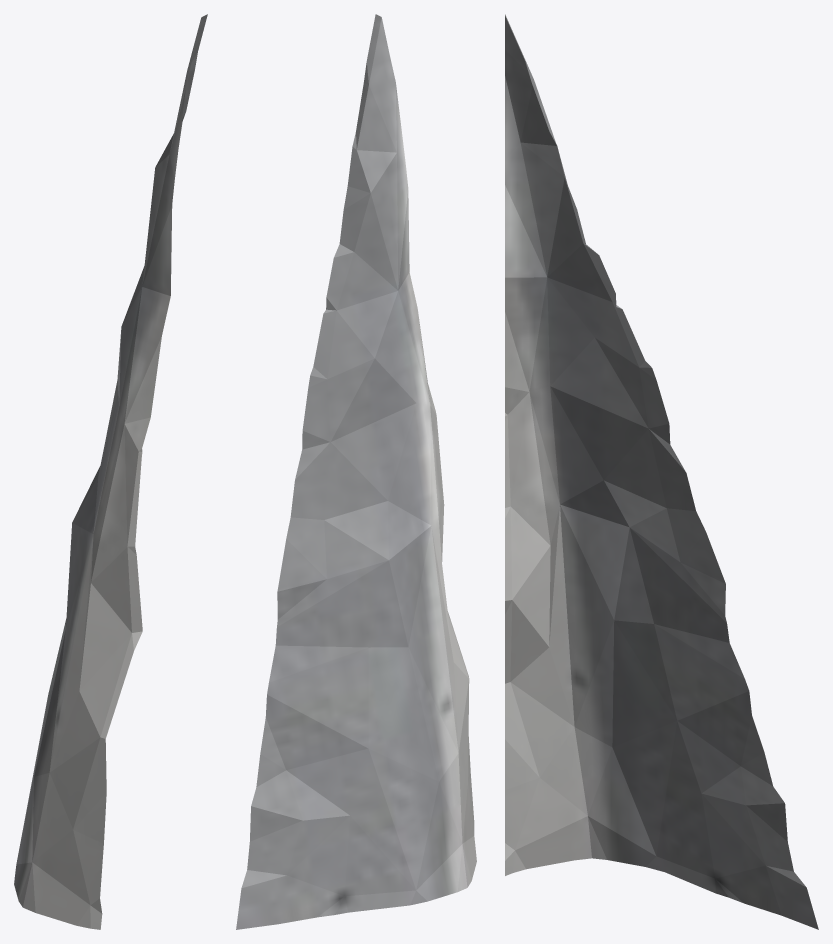
3 renders of one model, left to right at view 1: azimuth 30°, elevation 25°; view 2: azimuth 150°, elevation 25°; view 3: azimuth 270°, elevation 25°, orthographic. The views are drawn at different scales.
Size of the model in its own units: 0.0841 by 0.5009 by 0.1558.
1 material, 1 textured.
